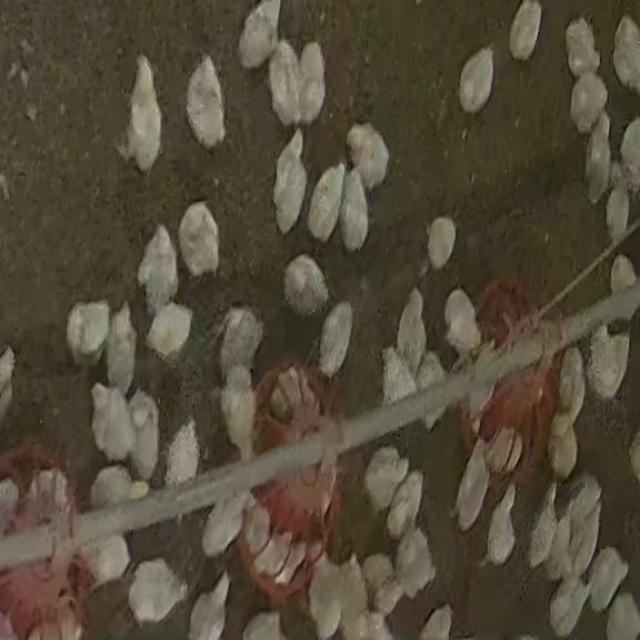chicken: (116, 52, 161, 170), (126, 558, 185, 626), (185, 54, 227, 148), (304, 539, 342, 637), (137, 225, 180, 310), (220, 363, 258, 459), (176, 200, 222, 279), (272, 137, 309, 235), (216, 304, 264, 378), (145, 300, 196, 366), (200, 491, 250, 558), (454, 442, 492, 530), (267, 363, 323, 422), (307, 162, 347, 243), (265, 34, 300, 126), (99, 380, 138, 462), (65, 300, 112, 368), (346, 121, 392, 190), (91, 460, 152, 512), (362, 444, 408, 511), (124, 389, 157, 480), (591, 327, 631, 401), (184, 576, 231, 638), (282, 253, 328, 316), (238, 1, 281, 68), (484, 480, 518, 564), (317, 302, 354, 379), (412, 345, 447, 426), (105, 302, 136, 393), (380, 346, 420, 416), (356, 554, 403, 613), (585, 547, 627, 612), (396, 523, 434, 593), (456, 46, 496, 112), (528, 488, 559, 572), (443, 287, 480, 357), (584, 113, 612, 204), (339, 170, 370, 250), (558, 346, 585, 436), (568, 70, 608, 130), (396, 288, 426, 368), (573, 502, 604, 579), (567, 477, 595, 561), (298, 39, 326, 122), (611, 14, 640, 92), (549, 490, 574, 580), (550, 573, 588, 632), (165, 422, 197, 492), (564, 16, 600, 77), (608, 253, 637, 328), (508, 1, 544, 60), (391, 470, 425, 532), (338, 556, 363, 639), (425, 214, 457, 270), (257, 526, 289, 579), (604, 594, 640, 640), (550, 428, 580, 482), (605, 184, 631, 242), (619, 116, 640, 174)
